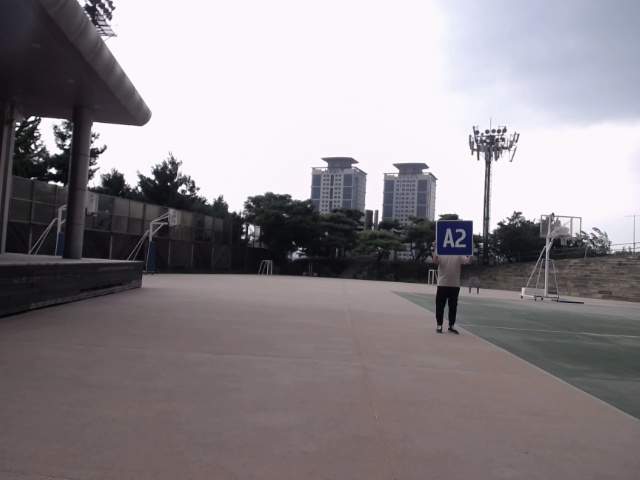delivery_a2: (436, 220, 473, 255)
